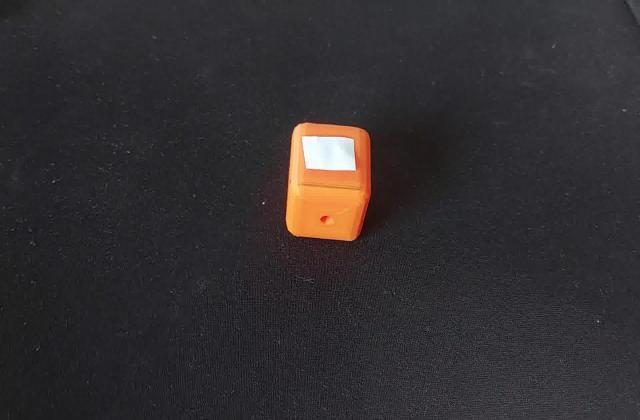sticker: (284, 120, 379, 246)
white: (298, 134, 361, 177)
